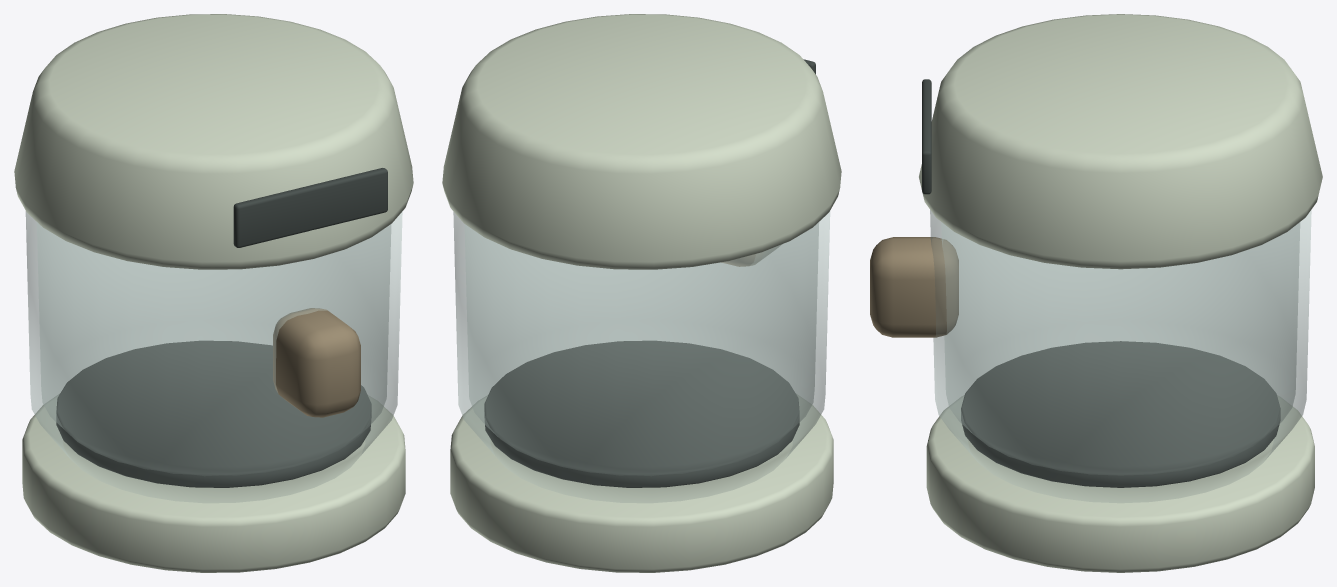
Rendered from glass-air-fryer.glb.
The picture shows the model from 3 angles, left to right: view 1: azimuth 30°, elevation 25°; view 2: azimuth 150°, elevation 25°; view 3: azimuth 270°, elevation 25°; orthographic projection.
Visible parts, largest first — view 1: glass-air-fryer; view 2: glass-air-fryer; view 3: glass-air-fryer.
Part boxes in pixels (bbox=[...]): glass-air-fryer: bbox=[14, 14, 413, 572]; glass-air-fryer: bbox=[442, 14, 841, 572]; glass-air-fryer: bbox=[870, 14, 1322, 572].
Size of the model in its own units: 0.3 by 0.34 by 0.34.
